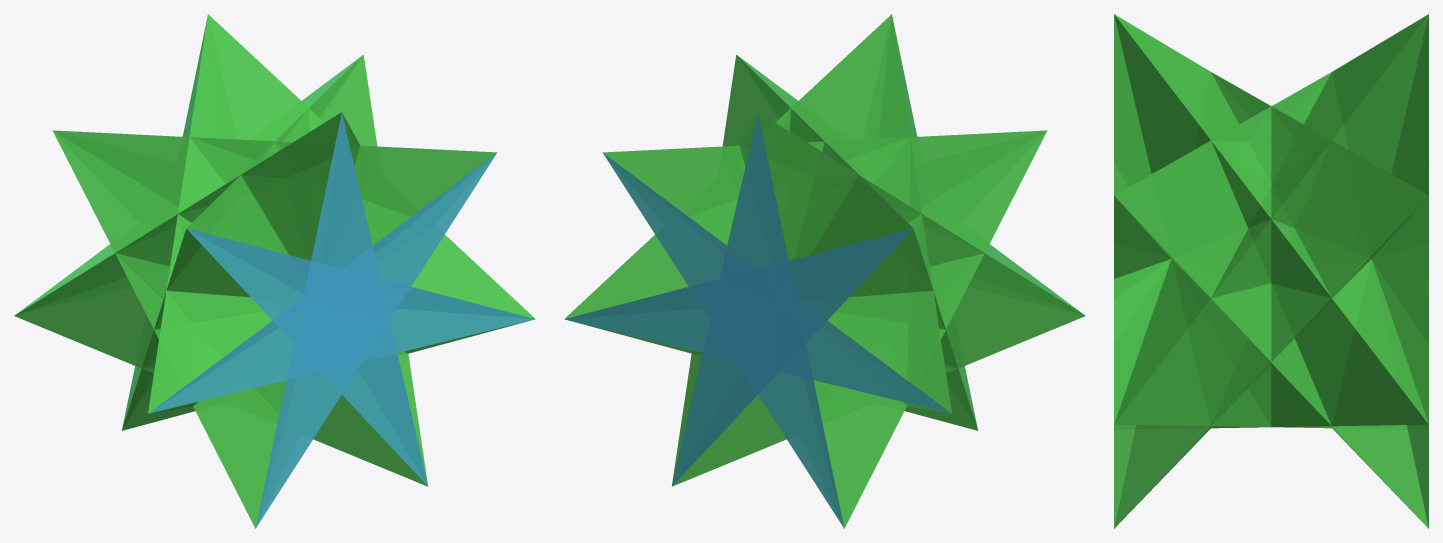
File: HeptagrammicCrossedAntiprism.obj
The picture shows the model from 3 angles, left to right: view 1: azimuth 30°, elevation 25°; view 2: azimuth 150°, elevation 25°; view 3: azimuth 270°, elevation 25°; orthographic projection. The views are drawn at different scales.
Bounding box in the file's own units: 1 × 0.9749 × 0.5974.
